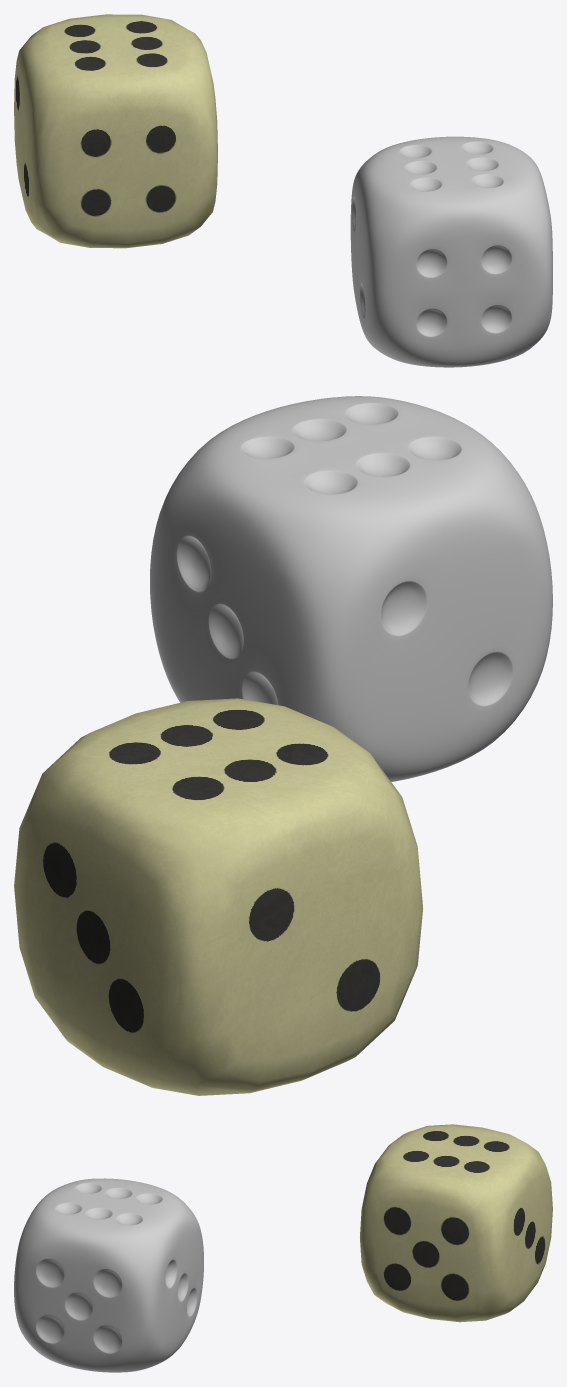
File: DICE.fbx
3 views of the same model, one above another, from view 1: azimuth 30°, elevation 25°; view 2: azimuth 150°, elevation 25°; view 3: azimuth 270°, elevation 25° (orthographic). The views are drawn at different scales.
Visible parts, largest first — view 1: dice_lowpoly, dice_hipoly; view 2: dice_lowpoly, dice_hipoly; view 3: dice_lowpoly, dice_hipoly.
Part boxes in pixels (x1,y1,x2,y2): dice_lowpoly: [14, 14, 217, 248]; dice_hipoly: [350, 136, 552, 367]; dice_lowpoly: [14, 698, 423, 1095]; dice_hipoly: [150, 396, 552, 781]; dice_lowpoly: [360, 1124, 552, 1322]; dice_hipoly: [14, 1178, 203, 1372].
Size of the model in its own units: 3 by 1.52 by 5.12.
